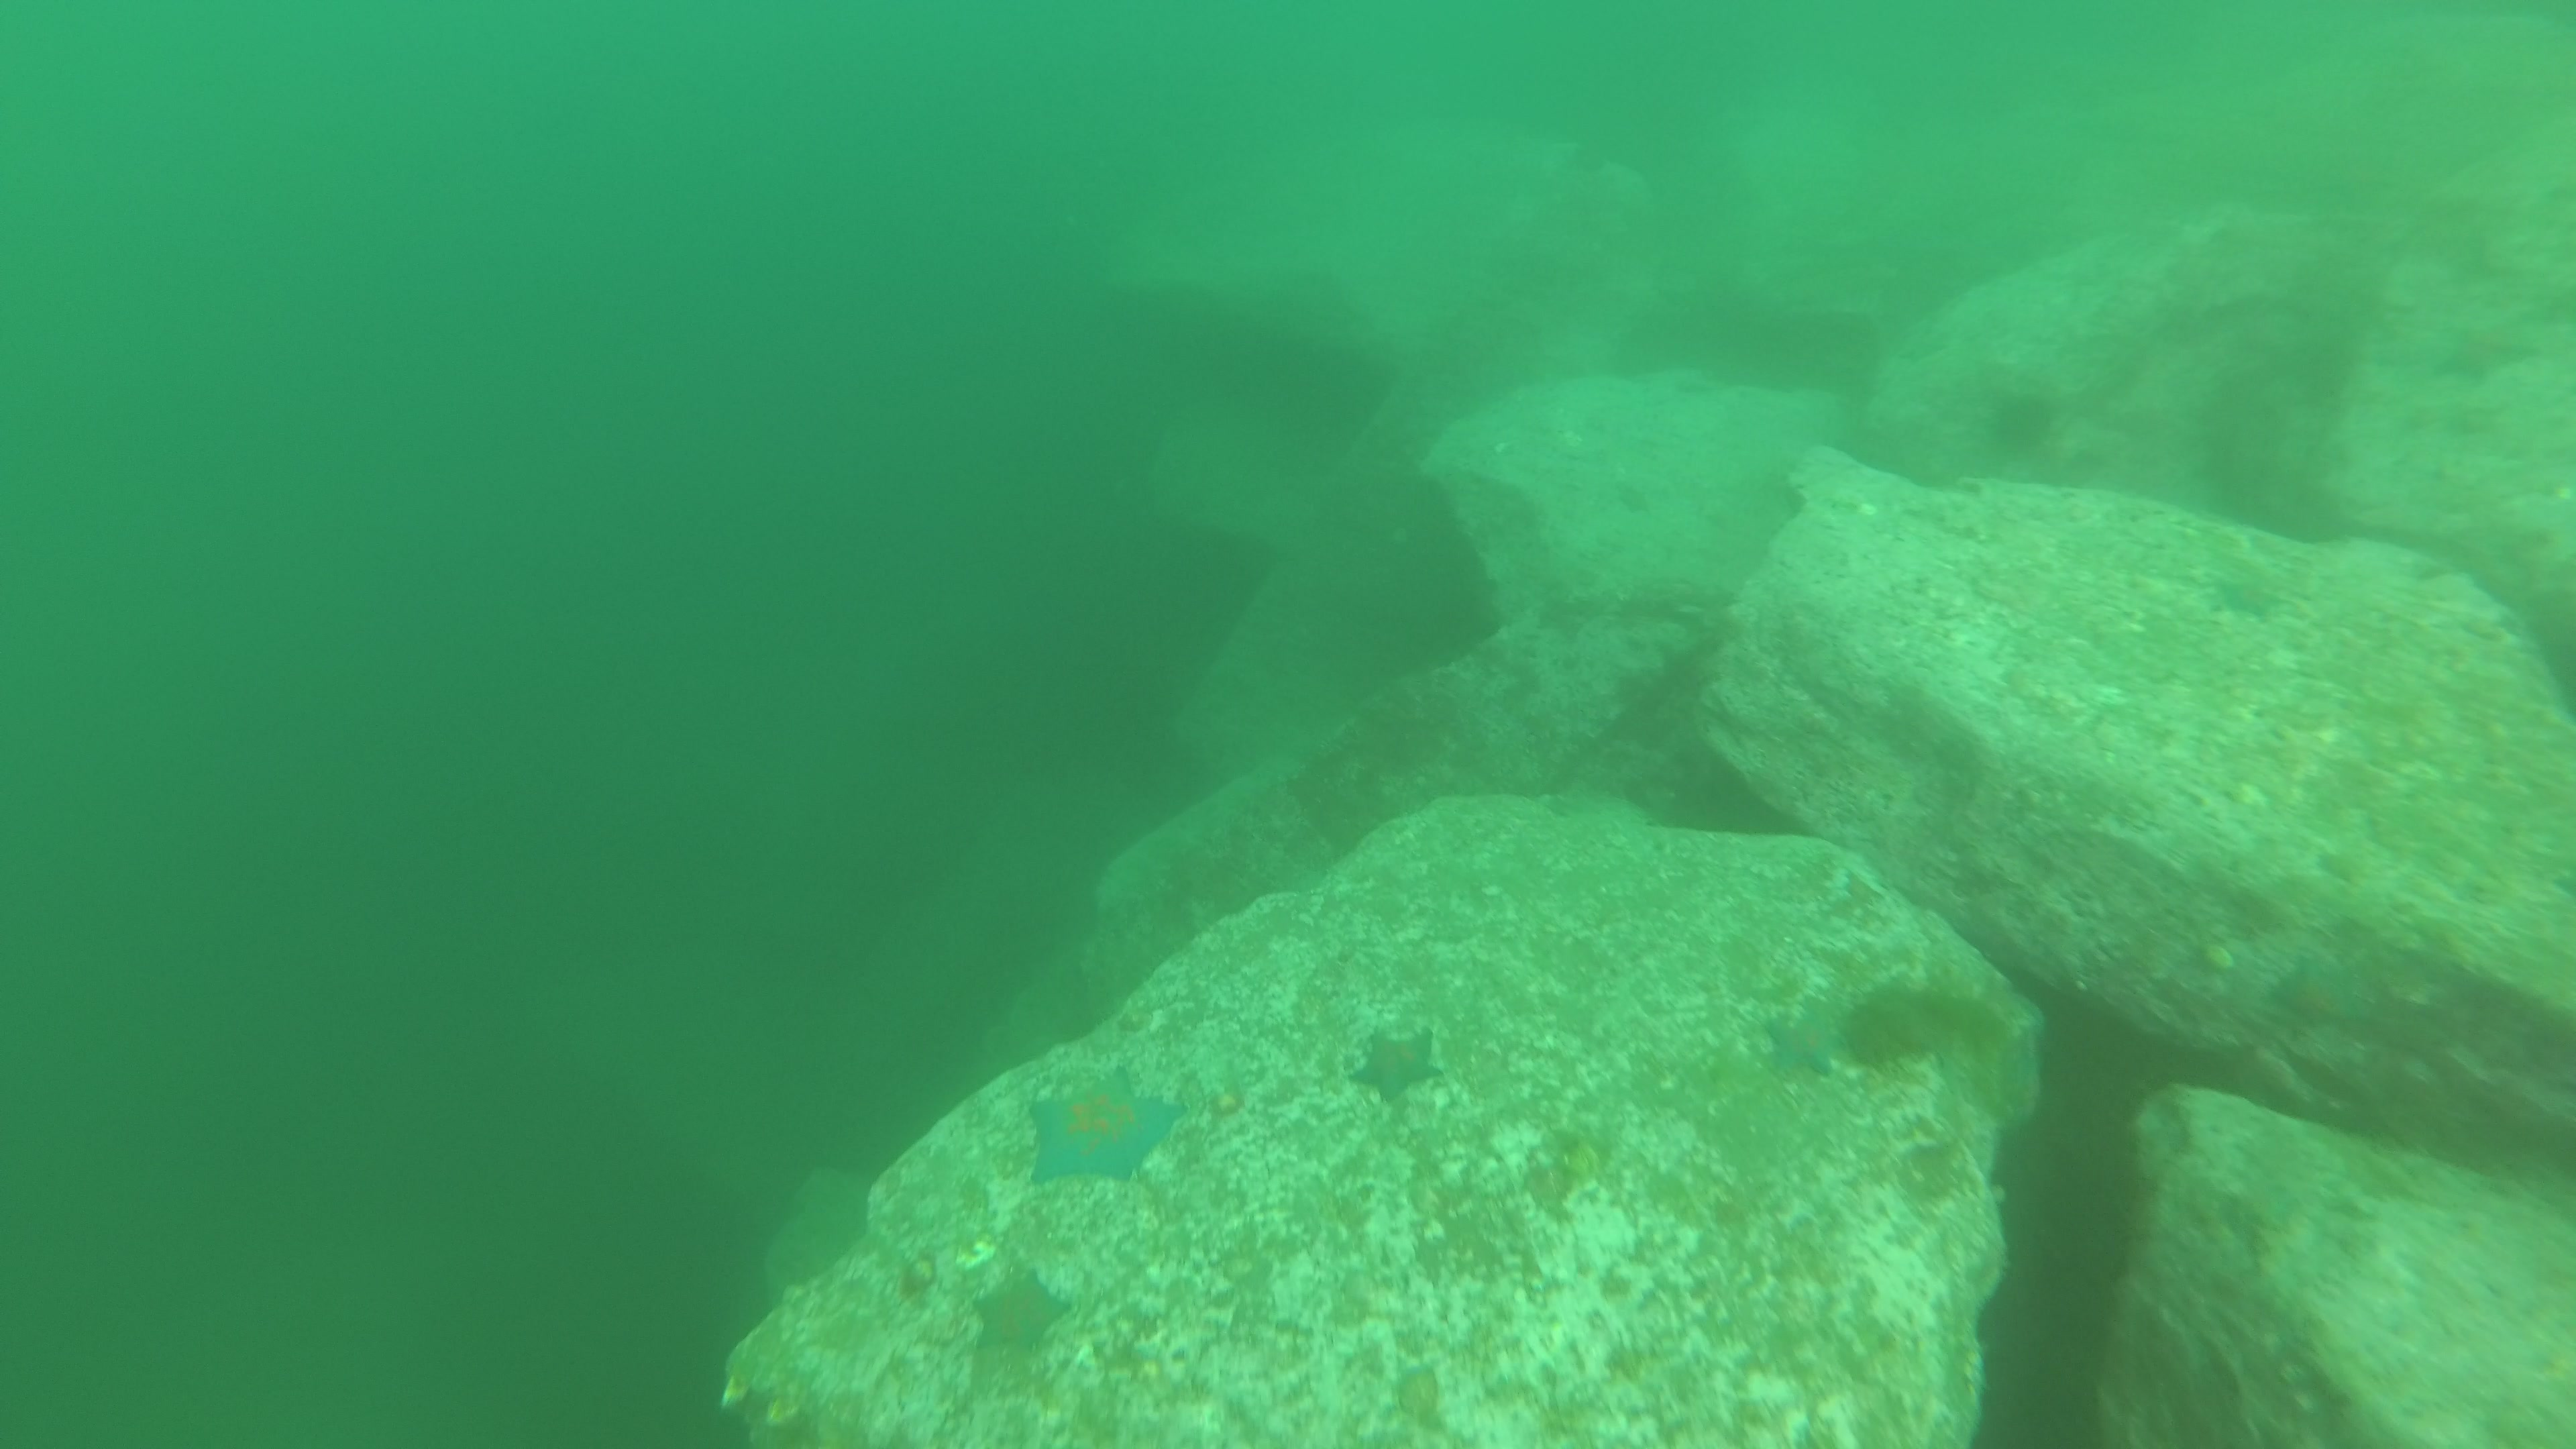starfish: (1021, 1067, 1194, 1191), (968, 1263, 1077, 1357), (1352, 1017, 1447, 1104), (1757, 1007, 1849, 1083), (2275, 950, 2358, 1031), (2208, 564, 2281, 628)
